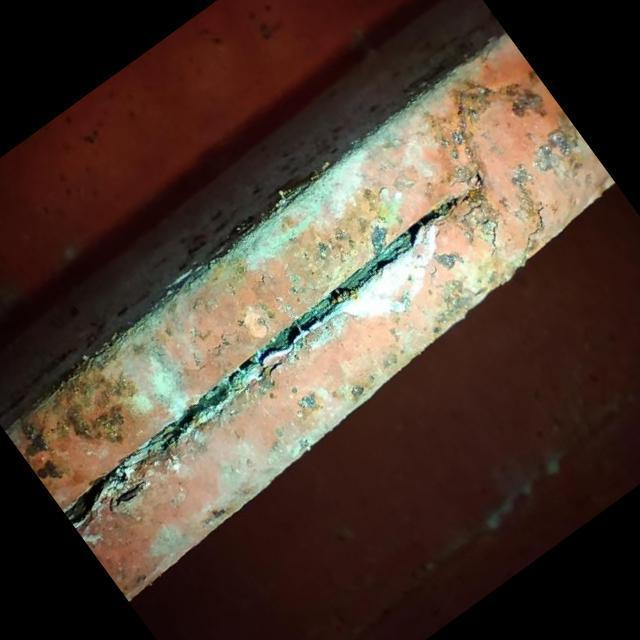defect: (60, 186, 467, 532), (523, 199, 546, 258), (489, 208, 504, 259)
